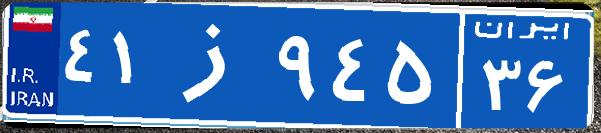1: (110, 28, 158, 105)
3: (475, 38, 525, 113)
4: (330, 28, 385, 110), (57, 26, 110, 107)
5: (385, 28, 445, 110)
6: (525, 38, 570, 115)
9: (273, 28, 330, 110)
ز: (158, 15, 273, 115)
